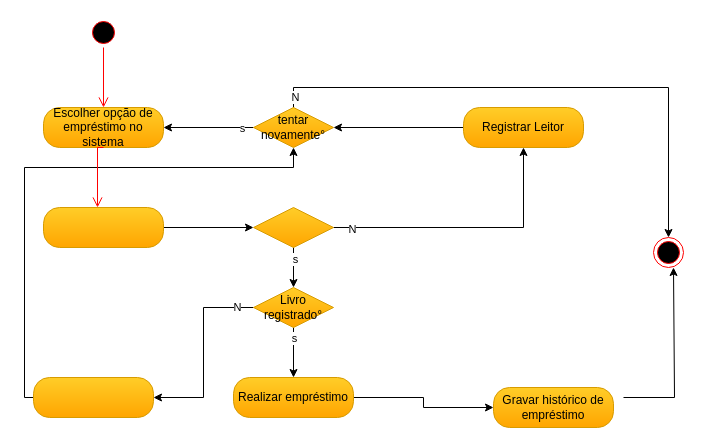
The diagram is 701 pixels wide and 445 high, and some of its shapes have lost their labels. The centre of each missing label's shape, as x and y in pixels:
inserir ISBN do livro e ID do leitor: pixel 103 227
Leitor resgistrado°: pixel 293 227
Retornar mensagem: pixel 93 397
